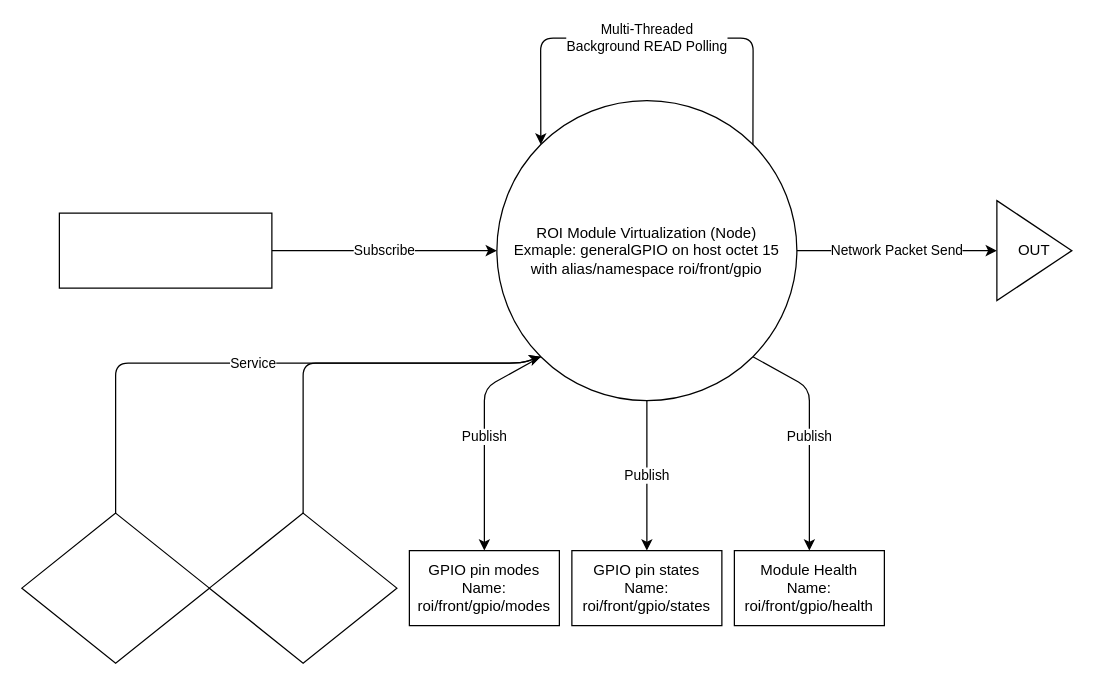
The diagram is 1094 pixels wide and 685 high, and some of its shapes have lost their labels. Each missing label, with the box of its shape:
Octet Response (Topic From Listener) Name: roi/octet15response: (58, 212, 272, 288)
Set Pin Mode roi/front/gpio/setMode: (208, 512, 397, 663)
Set Pin Output roi/front/gpio/setState: (21, 512, 209, 663)
